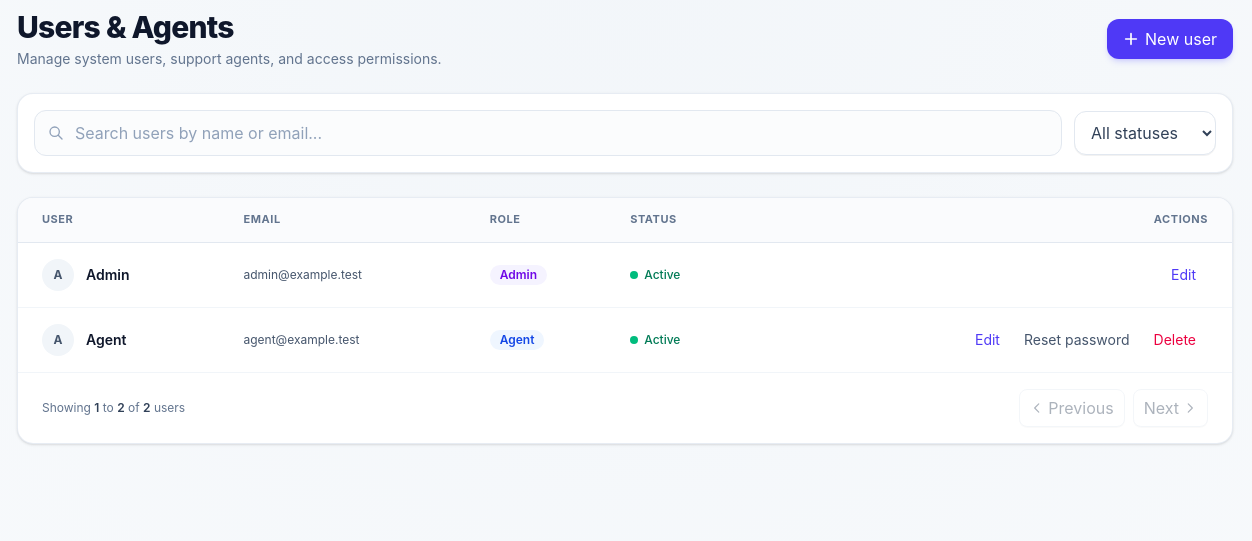
Scenario: AdminUsersView — row actions › shows any other failure in the list error region
The width and height of the screenshot is (1252, 541).
What coordinates should you click on to do the following:
click the button with test id "users-delete"
I would click on:
 (1175, 340)
Its box is [1142, 326, 1208, 354].
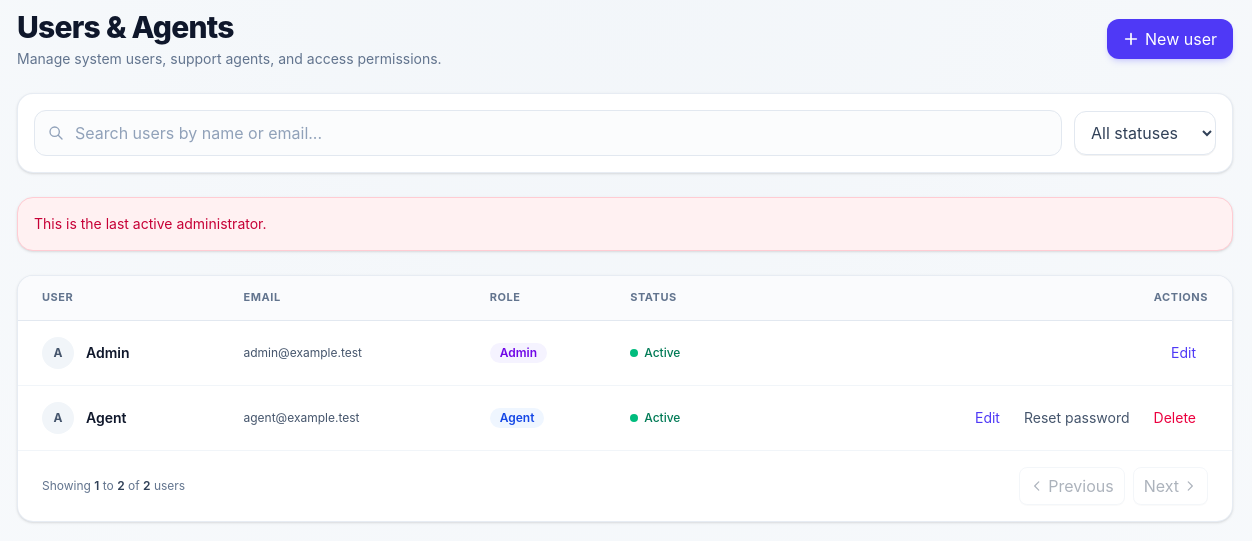
Result: the text with test id "users-error" reads "This is the last active administrator." at [34, 215, 266, 232]
